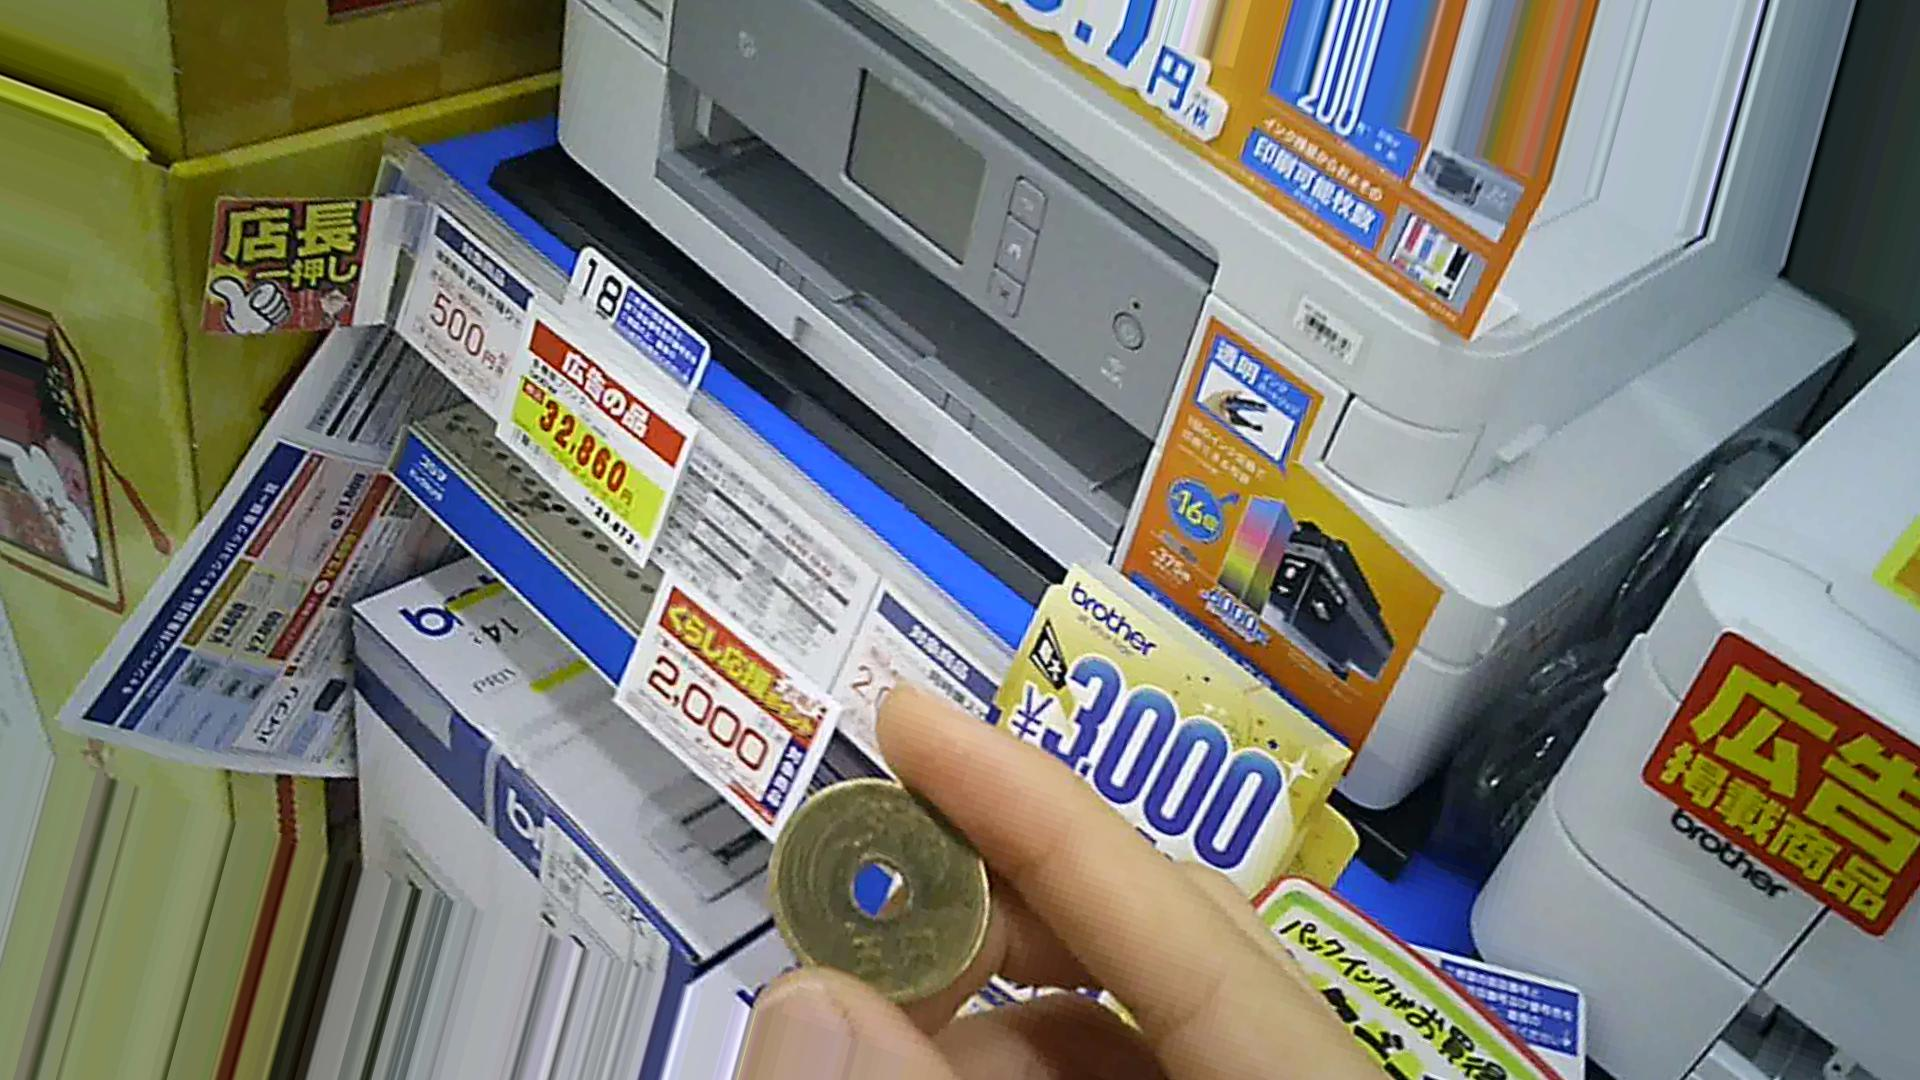5 Yen: (765, 785, 996, 998)
